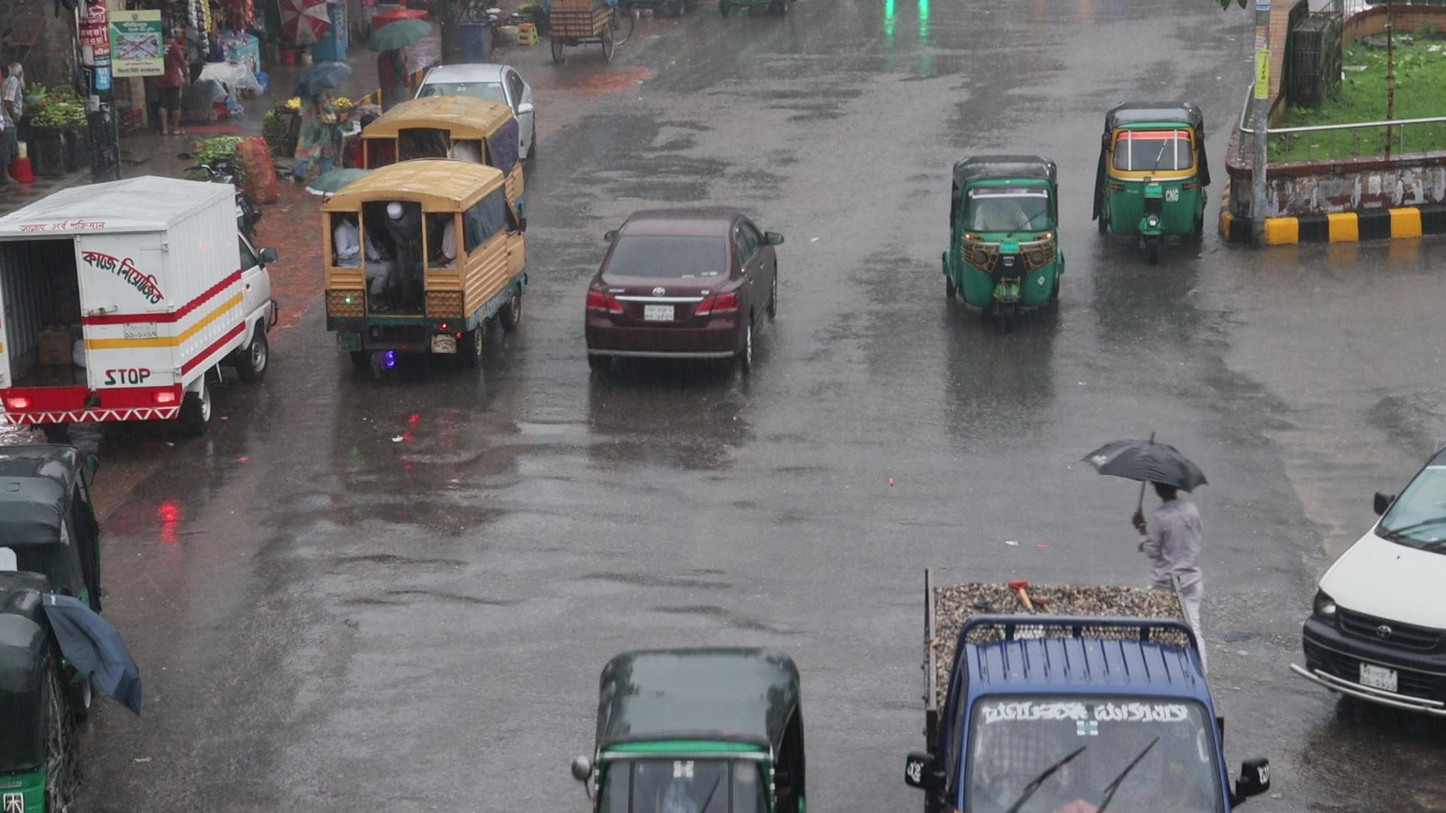Car: (574, 195, 788, 399)
Truck: (911, 553, 1244, 813), (309, 155, 522, 384)
